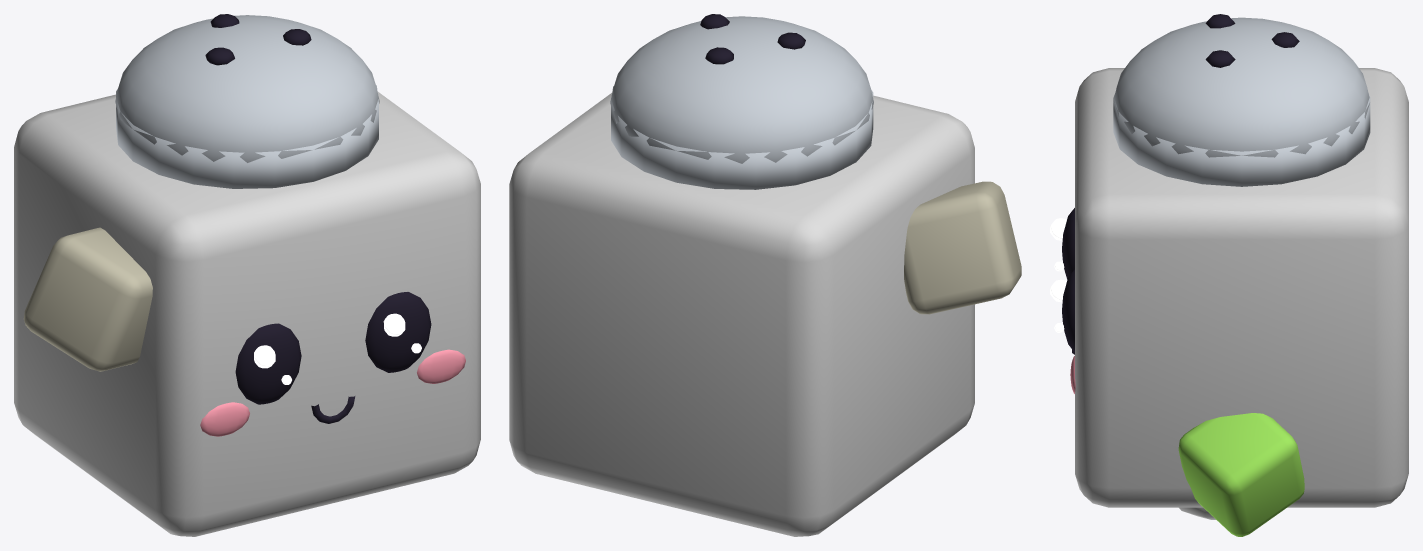
File: nacl.glb
3 views of the same model, side by side, from view 1: azimuth 30°, elevation 25°; view 2: azimuth 150°, elevation 25°; view 3: azimuth 270°, elevation 25° (orthographic). The views are drawn at different scales.
Parts seen in each view (by area): view 1: nacl; view 2: nacl; view 3: nacl.
Boxes of the visible parts, x1,y1,x2,y2 form: nacl: (14,14,480,536); nacl: (509,14,1021,536); nacl: (1050,14,1408,536).
Size of the model in its own units: 1.08 by 1 by 0.7335.
